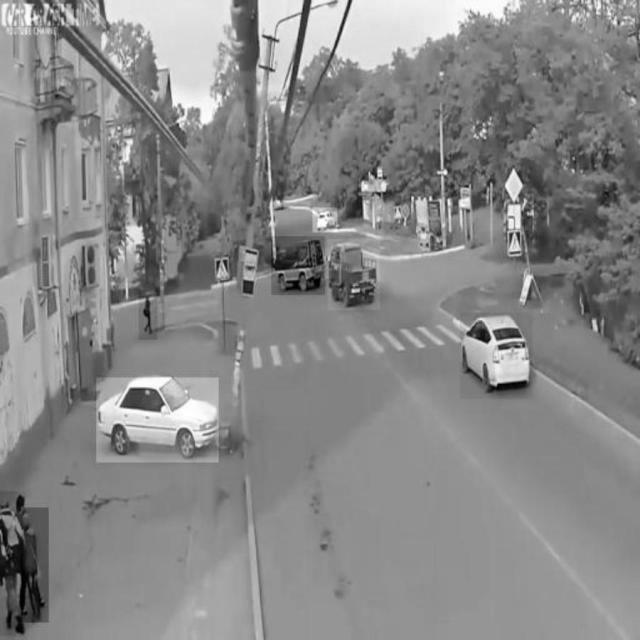person: (1, 492, 26, 636), (22, 508, 49, 622), (139, 290, 157, 340)
vehicle: (96, 378, 218, 464), (461, 313, 533, 399), (328, 239, 380, 310), (271, 237, 325, 295), (313, 207, 338, 232)
